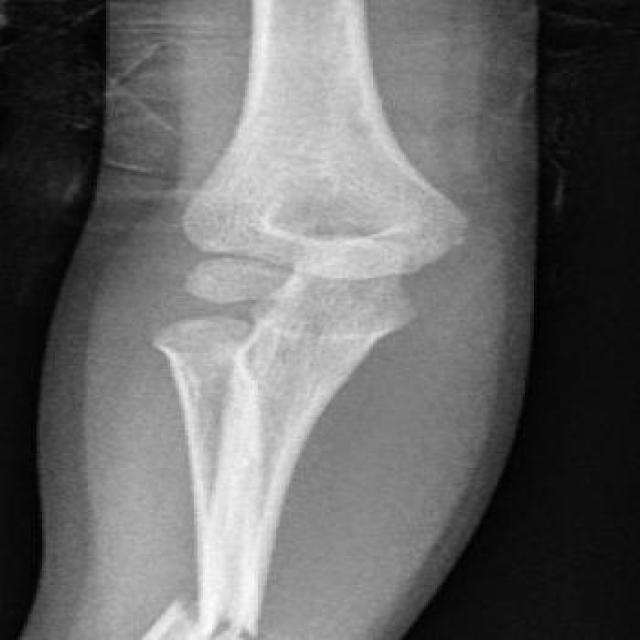Fracture: (132, 590, 300, 640)
